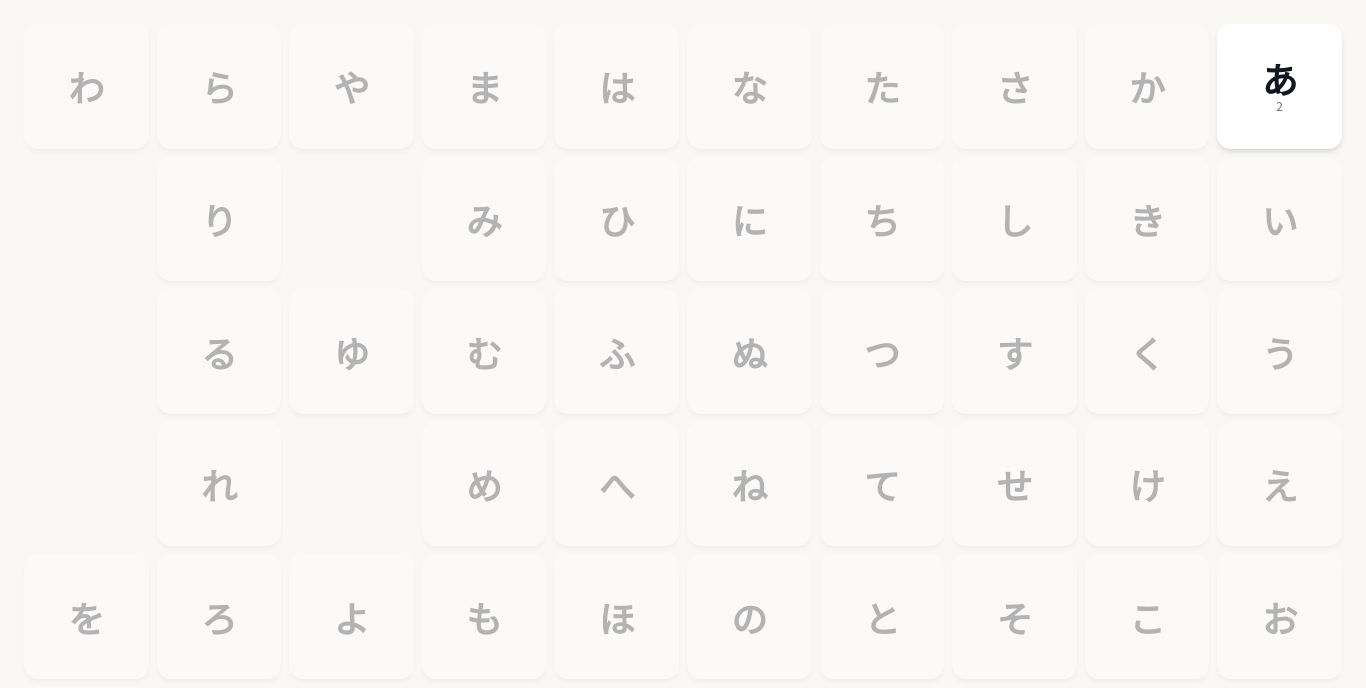
Test case: SelfCheckInPage undo existing attendance › 今日すでに出席済みの児童をタップするとチェックアウトしてとりけすできる
The image size is (1366, 688).
Later steps or results of the test are not shown.
Step 1. Click the button "あ 2" → click(1280, 86), box top-left (1217, 24), bottom-right (1342, 149)
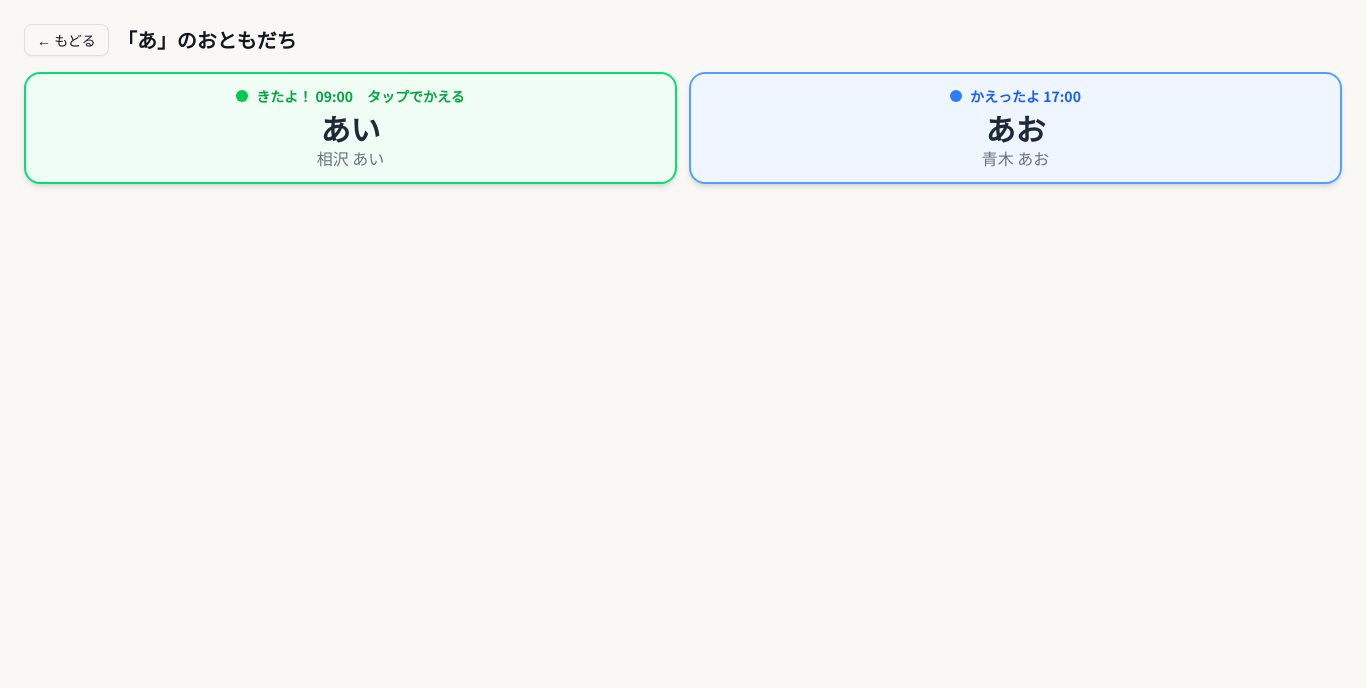
Step 2. Click the button named "きたよ！ 09:00　タップでかえる" → click(350, 128), box top-left (24, 72), bottom-right (677, 184)
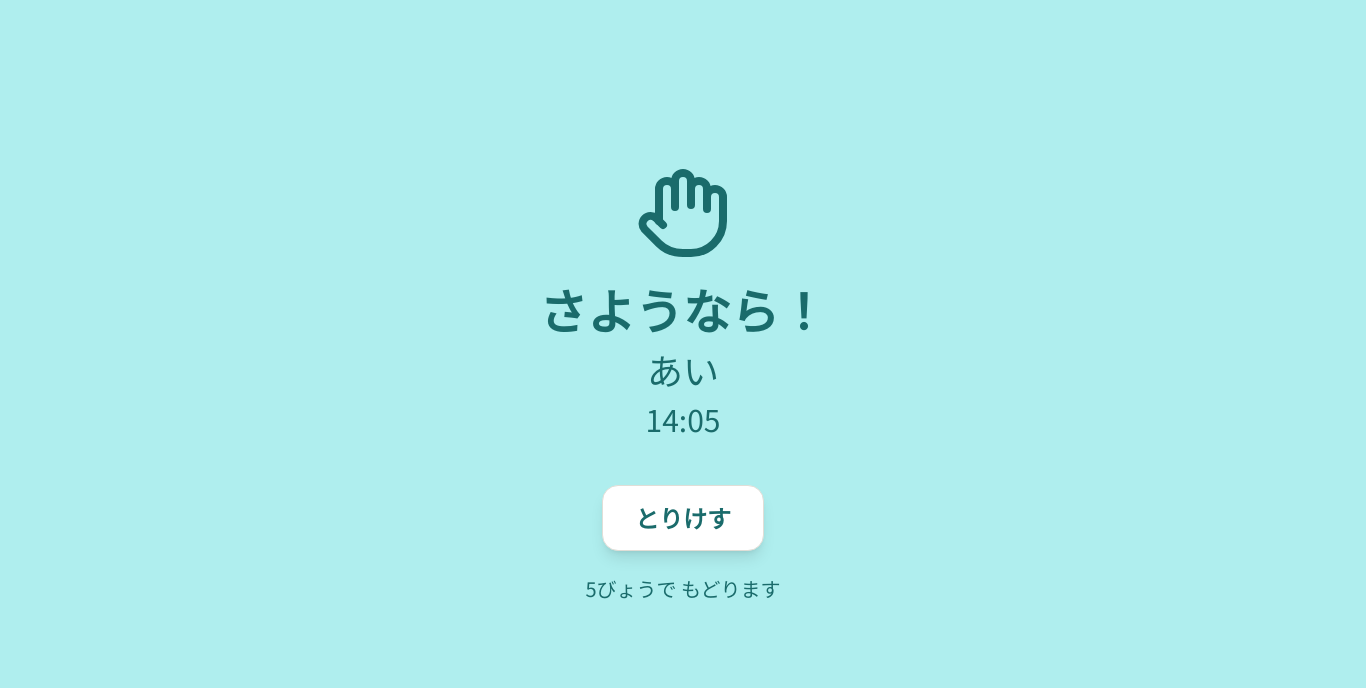
Expected: the button "とりけす" is shown, top-left (602, 485), bottom-right (764, 551)
